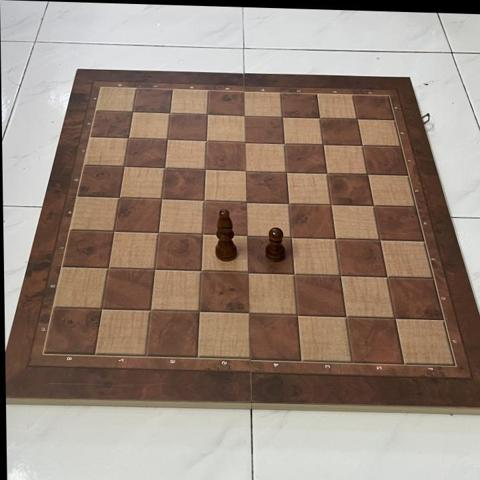xcorner: (161, 104, 179, 121), (347, 110, 364, 128), (198, 131, 215, 149), (314, 135, 331, 153), (352, 137, 370, 154), (156, 158, 173, 176), (358, 165, 375, 183), (153, 189, 170, 207), (194, 225, 212, 242), (239, 264, 257, 281), (191, 303, 209, 320), (289, 306, 306, 324), (386, 309, 403, 327), (124, 103, 141, 120), (199, 105, 216, 122), (236, 107, 253, 124), (273, 108, 290, 125), (310, 109, 327, 126), (120, 129, 137, 146), (159, 130, 176, 147), (237, 133, 254, 150), (275, 134, 292, 151), (116, 157, 133, 174), (197, 160, 214, 177), (237, 161, 254, 178), (278, 163, 295, 180), (318, 164, 335, 181), (111, 188, 128, 205), (196, 191, 213, 208), (238, 192, 255, 209), (280, 194, 297, 211), (322, 195, 339, 212), (364, 197, 381, 214), (106, 222, 123, 239), (150, 223, 167, 240), (239, 226, 256, 243), (283, 228, 300, 245), (327, 229, 344, 246), (371, 231, 388, 248), (100, 259, 117, 276), (147, 261, 164, 278), (193, 262, 210, 279), (286, 265, 303, 282), (332, 267, 349, 284), (378, 268, 395, 285), (94, 300, 111, 317), (143, 302, 160, 319), (240, 305, 257, 322), (338, 308, 355, 325)
